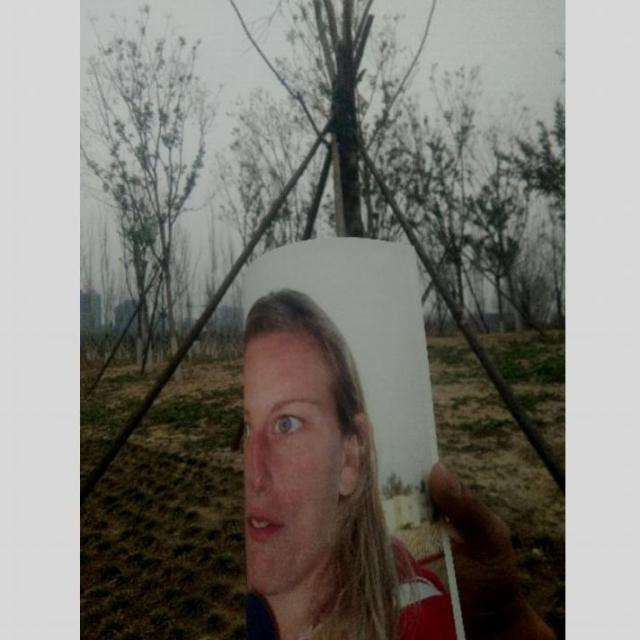photo: (236, 234, 469, 640)
